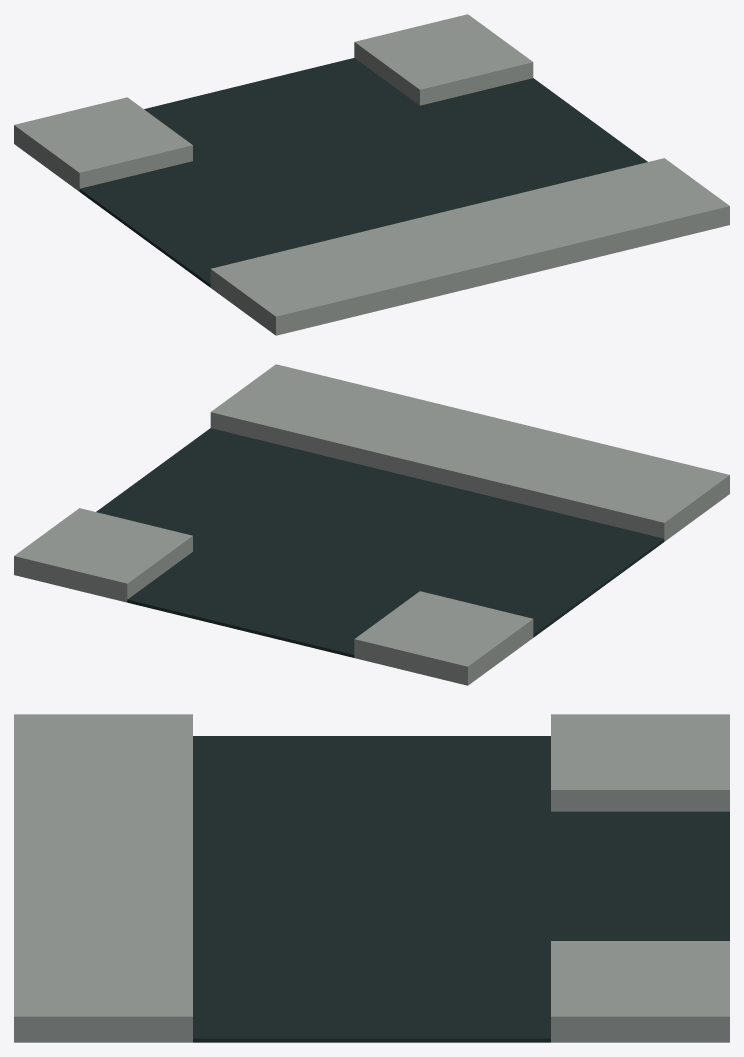
File: Road_Turn.fbx
3 renders of one model, top to bottom at view 1: azimuth 30°, elevation 25°; view 2: azimuth 150°, elevation 25°; view 3: azimuth 270°, elevation 25°, orthographic. The views are drawn at different scales.
Parts seen in each view (by area): view 1: Road_Turn; view 2: Road_Turn; view 3: Road_Turn.
Part boxes in pixels (x1,y1,x2,y2): Road_Turn: (14, 14, 729, 335); Road_Turn: (14, 364, 729, 685); Road_Turn: (14, 714, 729, 1042).
Bounding box in the file's own units: 500 × 20.03 × 500.
